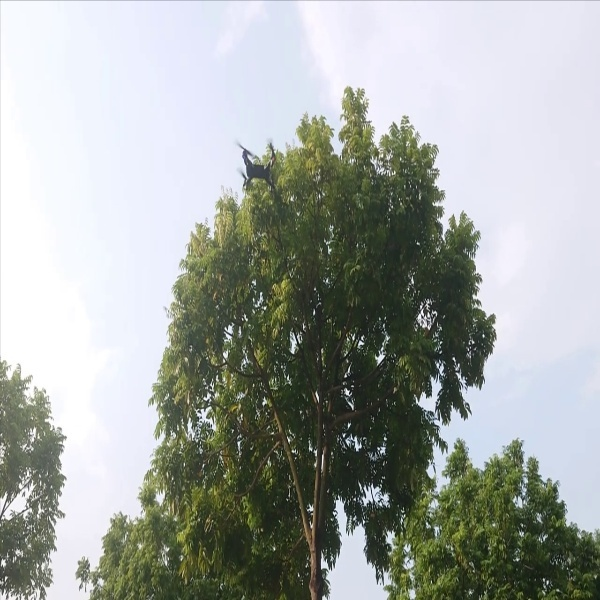drone: (231, 140, 284, 197)
